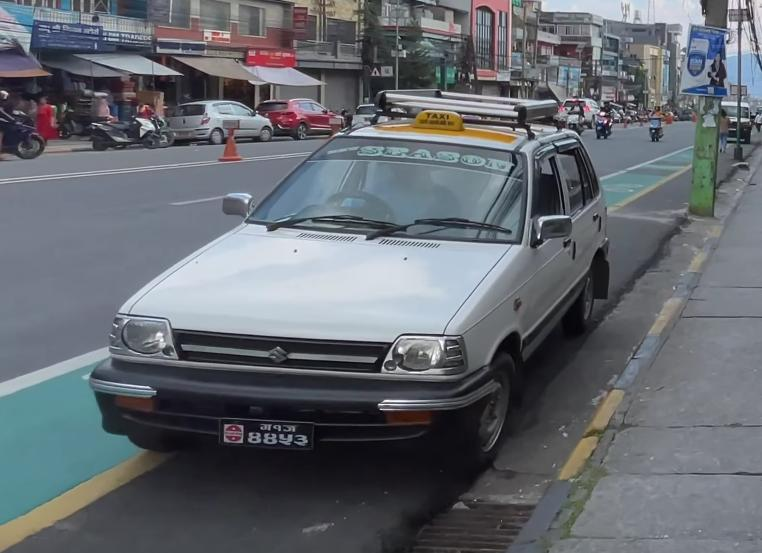bike: (0, 107, 48, 161)
car: (165, 98, 273, 146), (262, 97, 345, 138)
scooter: (83, 111, 160, 154), (592, 108, 616, 139), (645, 113, 668, 143)
taxi: (73, 89, 623, 466)
